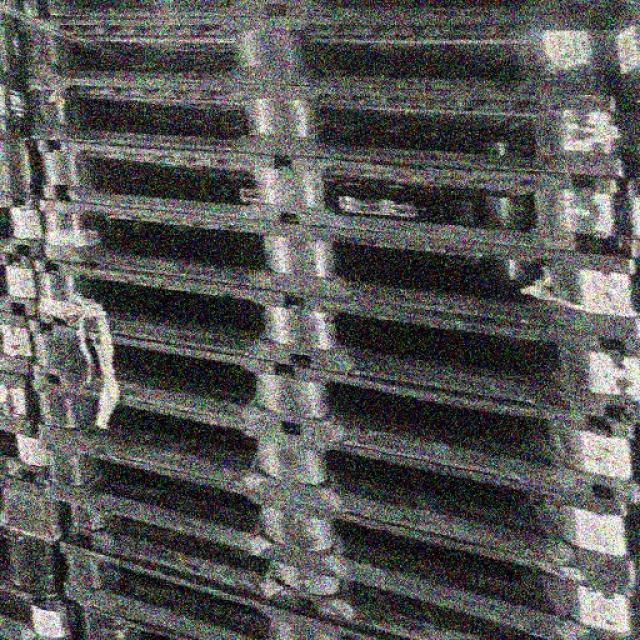igps: (32, 412, 640, 640), (25, 366, 640, 588), (22, 307, 640, 513), (26, 249, 640, 429), (36, 476, 639, 640), (32, 192, 640, 352), (31, 134, 627, 264), (22, 72, 630, 187), (10, 6, 614, 100), (51, 534, 390, 640), (72, 590, 270, 640)
